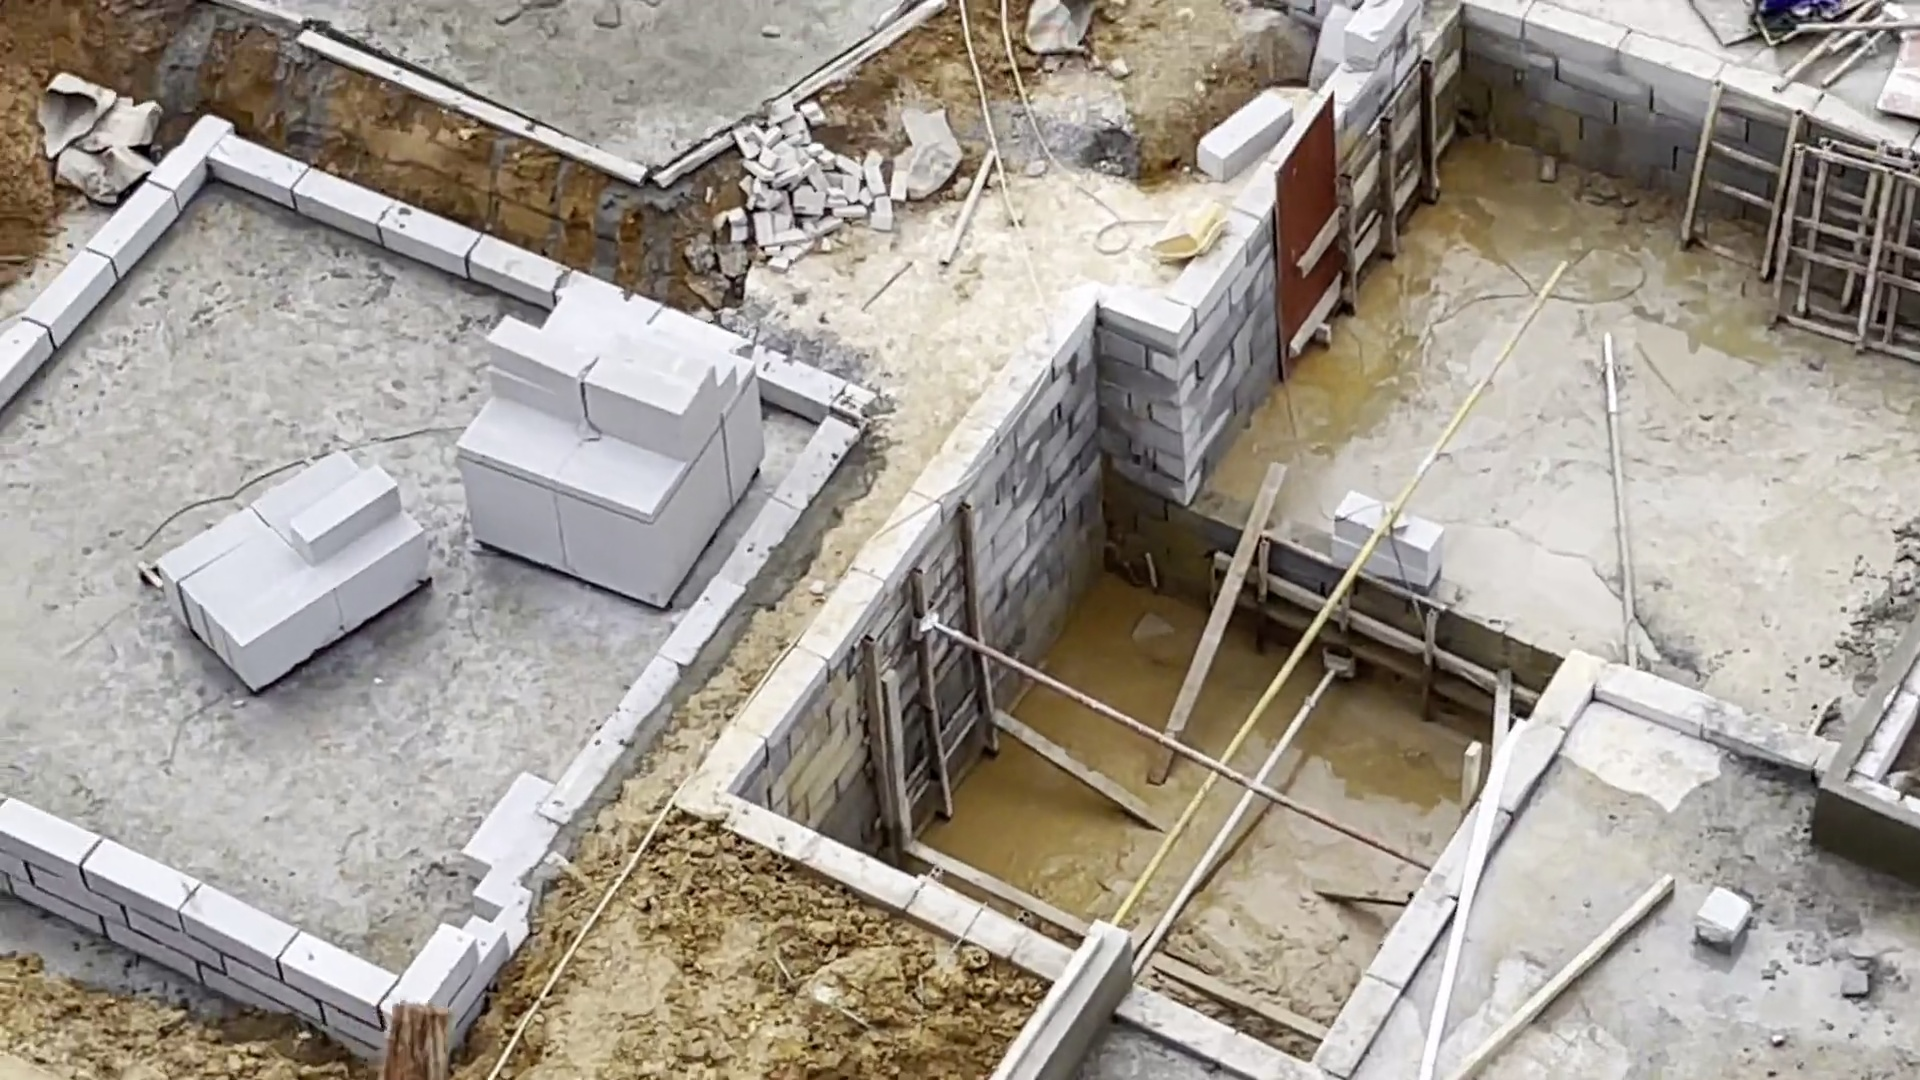brick: (455, 274, 771, 612), (164, 446, 431, 688)
